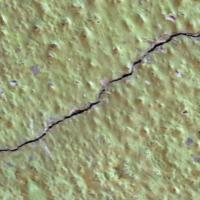crack: (0, 27, 199, 160)
